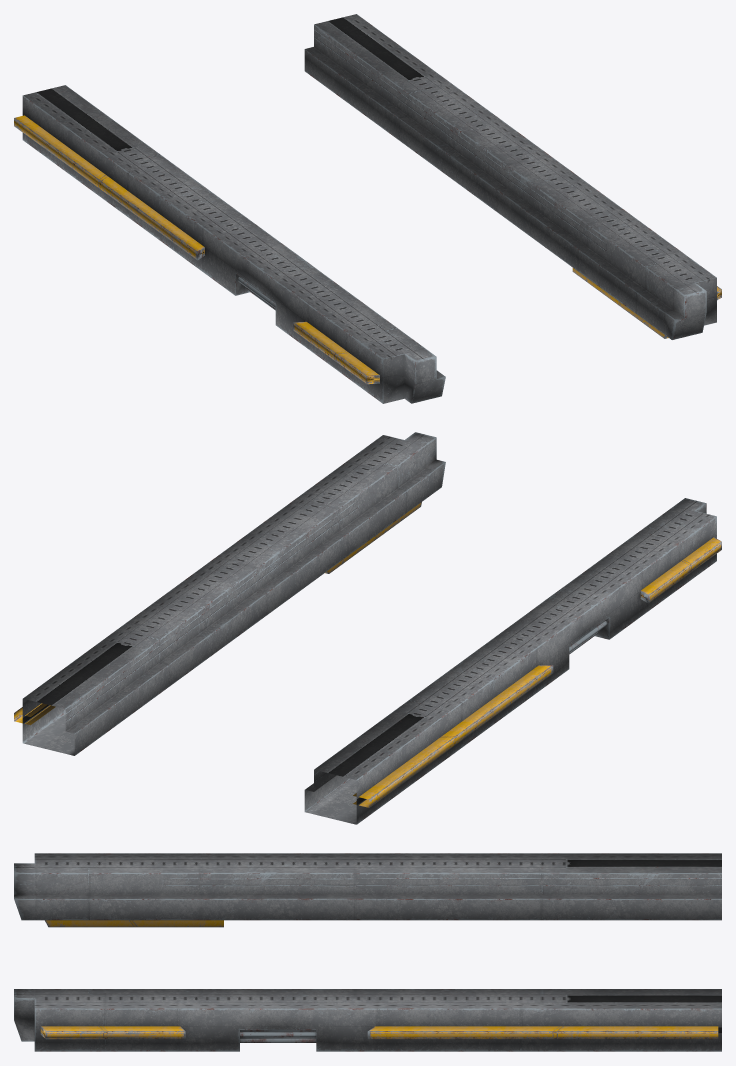
File: Spaceship_dockingside_mdl.fbx
The picture shows the model from 3 angles, top to bottom: view 1: azimuth 30°, elevation 25°; view 2: azimuth 150°, elevation 25°; view 3: azimuth 270°, elevation 25°; orthographic projection. The views are drawn at different scales.
Parts seen in each view (by area): view 1: docking_side_mdl; view 2: docking_side_mdl; view 3: docking_side_mdl.
Part boxes in pixels (<box>): docking_side_mdl: <box>14,14,721,403</box>; docking_side_mdl: <box>14,432,721,824</box>; docking_side_mdl: <box>14,853,721,1051</box>.
Size of the model in its own units: 360 by 53.86 by 652.
